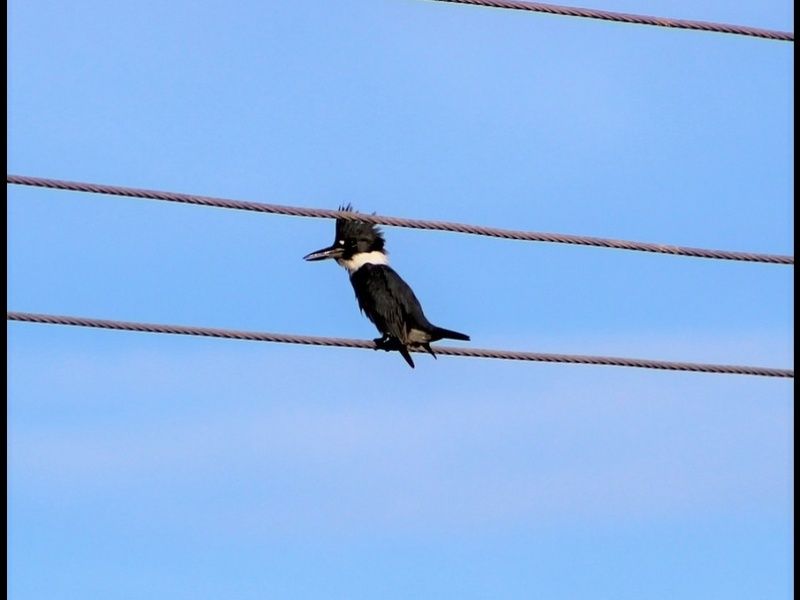kingfisher: (303, 206, 472, 365)
